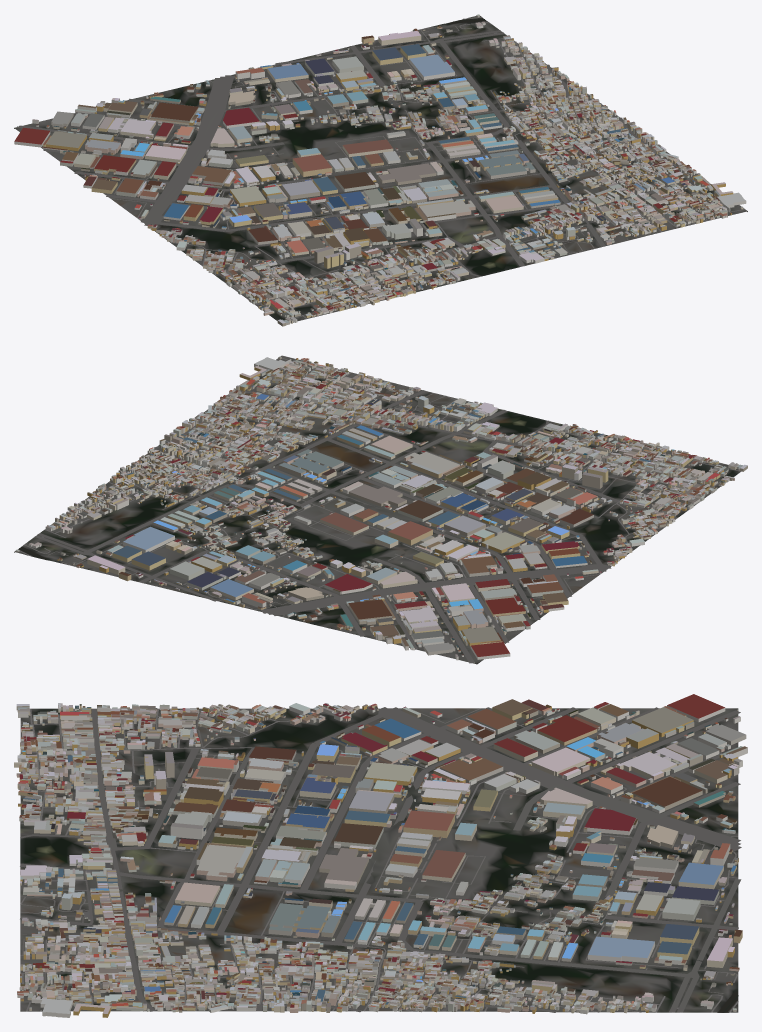
3 renders of one model, top to bottom at view 1: azimuth 30°, elevation 25°; view 2: azimuth 150°, elevation 25°; view 3: azimuth 270°, elevation 25°, orthographic. The views are drawn at different scales.
Visible parts, largest first — view 1: buildings, ground, roads; view 2: buildings, ground, roads; view 3: buildings, ground, roads.
Part boxes in pixels (x1,y1,x2,y2): buildings: [14, 14, 746, 326]; ground: [14, 16, 747, 321]; roads: [18, 17, 745, 318]; buildings: [15, 356, 747, 663]; ground: [14, 355, 740, 664]; roads: [19, 358, 740, 663]; buildings: [14, 694, 747, 1017]; ground: [20, 708, 738, 1012]; roads: [20, 707, 741, 1012].
Bounding box in the file's own units: 1478 × 36.25 × 1432.
